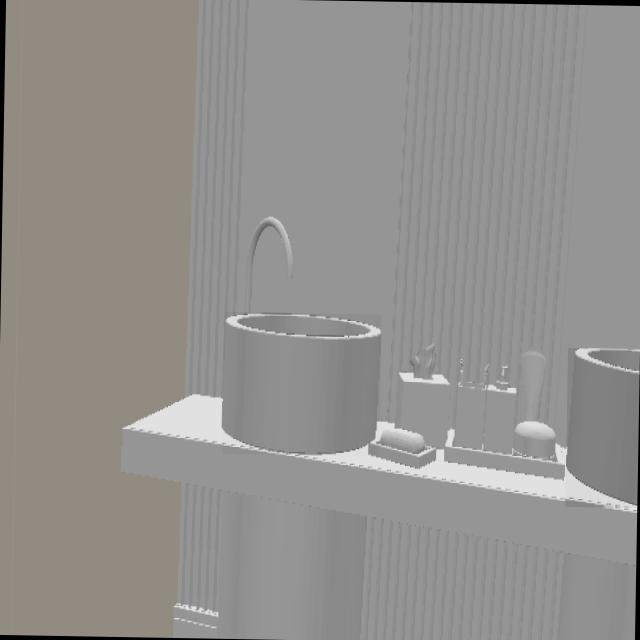washbasin: (222, 312, 380, 454), (565, 348, 640, 507)
